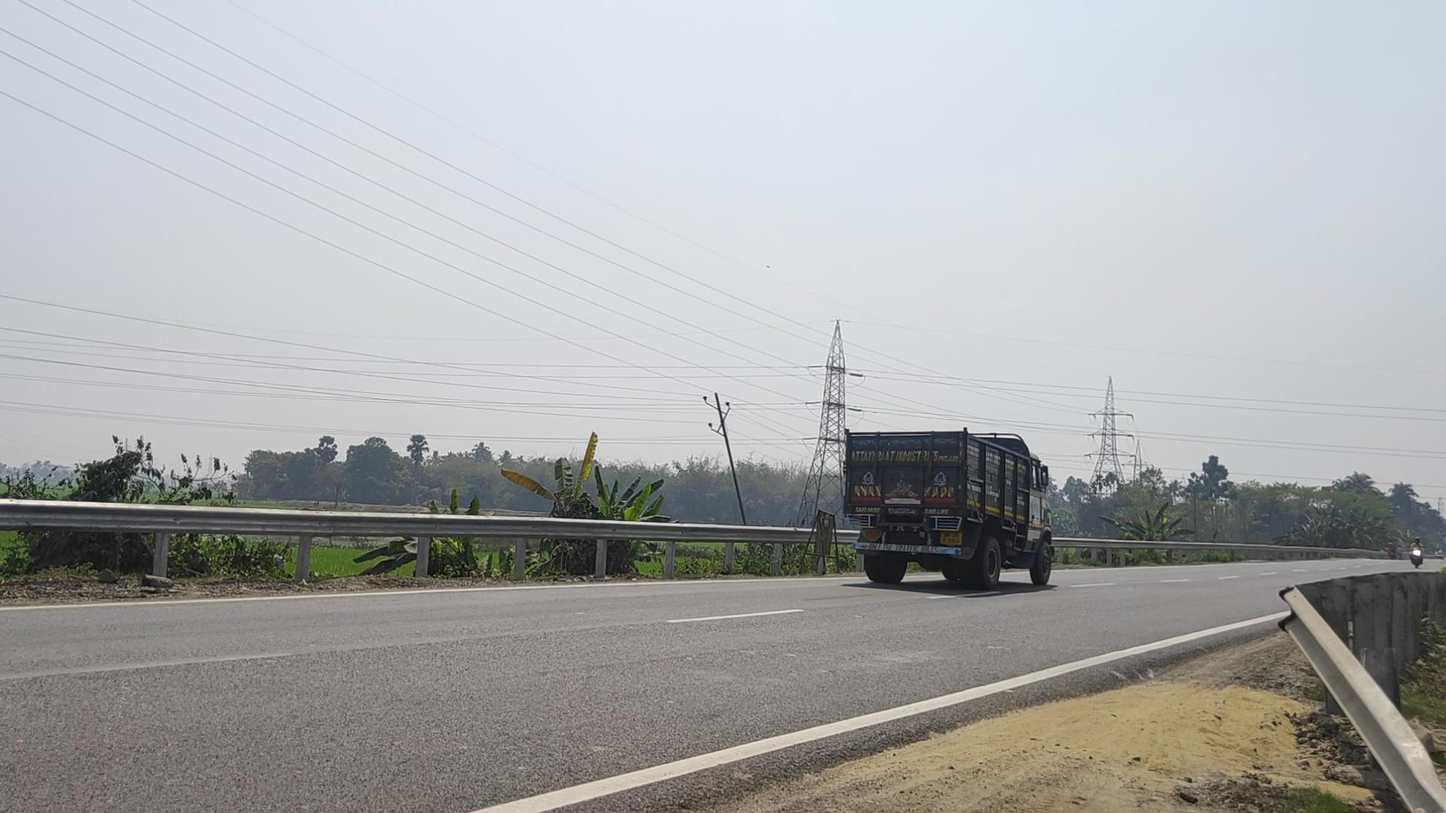bike: (1407, 536, 1426, 569)
truck: (842, 427, 1057, 592)
